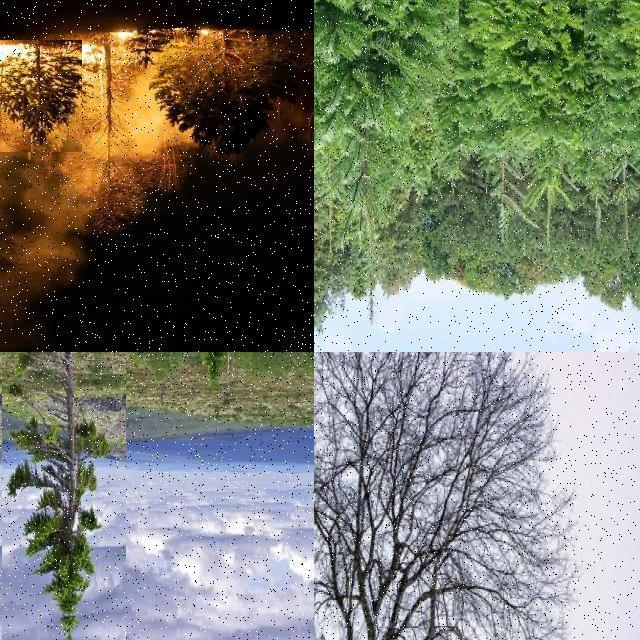tree: (314, 352, 558, 640), (314, 0, 490, 264), (459, 0, 613, 244), (2, 352, 126, 640), (162, 34, 270, 156), (0, 40, 82, 152), (520, 165, 590, 292), (584, 0, 640, 156), (588, 166, 640, 318), (136, 42, 208, 146), (72, 147, 152, 237)
